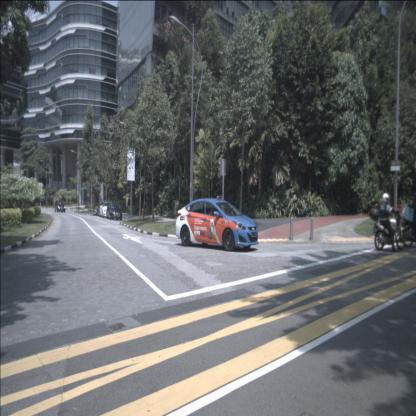vehicle-car: (175, 198, 258, 251), (106, 202, 123, 221), (99, 201, 113, 218), (54, 200, 66, 213)
vehicle-motorcycle: (369, 192, 406, 252), (400, 192, 416, 248), (92, 206, 100, 216)
